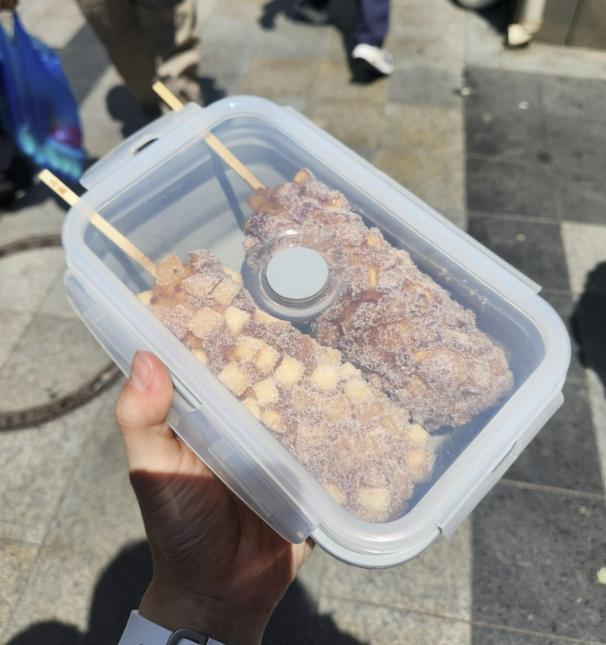Lunch Box: (62, 96, 570, 567)
